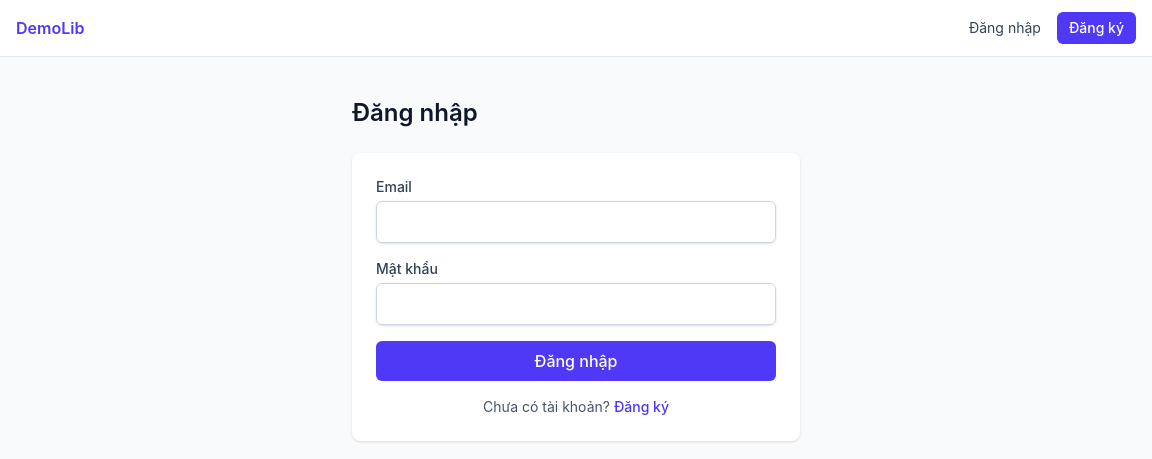
Scenario: 2.1.2 Đăng nhập — LoginPage › FU-02 BR-04: LIBRARIAN đăng nhập → /dashboard, lưu token
In the field labelled "Email": (576, 222) [376,201,776,243], type " A@B.com "
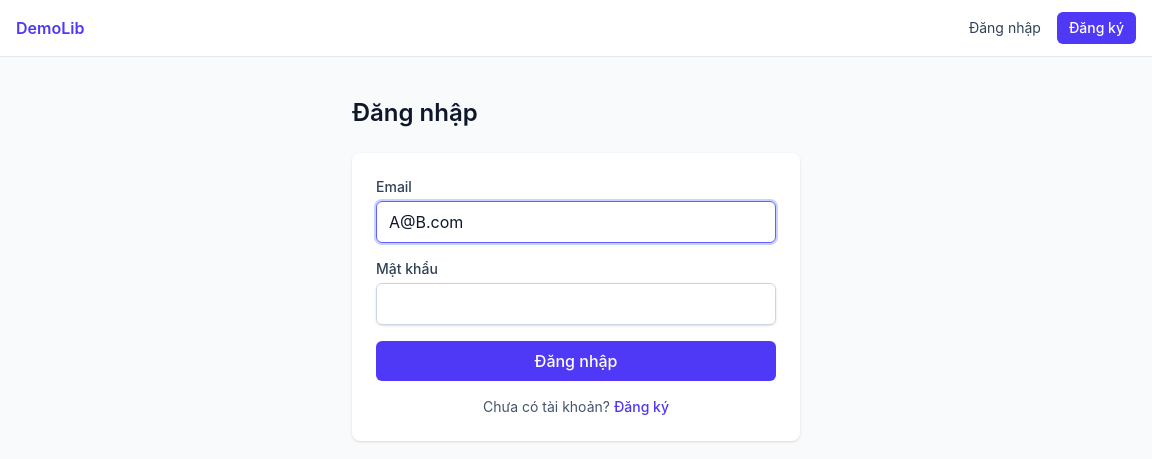
In the password field labelled "Mật khẩu": (576, 304) [376,283,776,325], type "12345678"
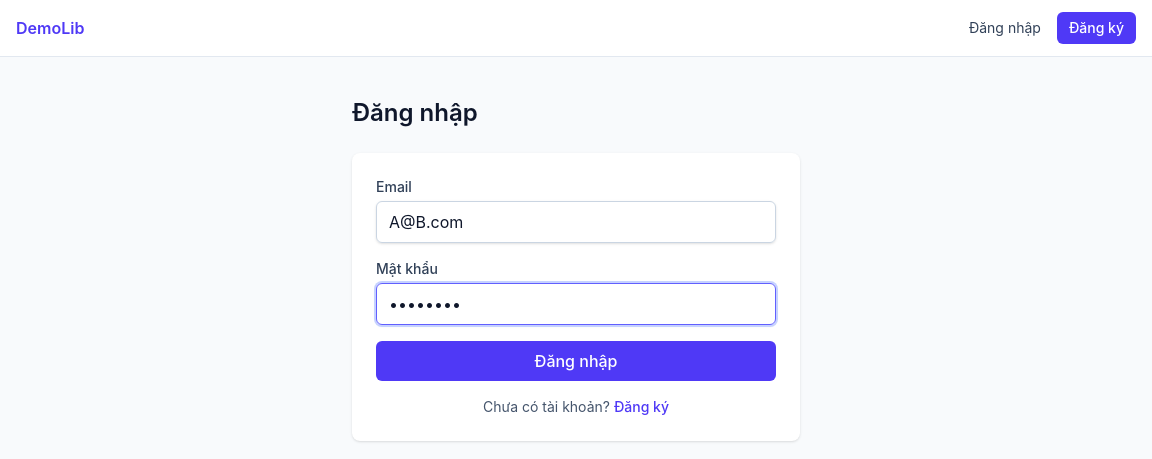
Click the button "Đăng nhập": (576, 361) [376,341,776,381]
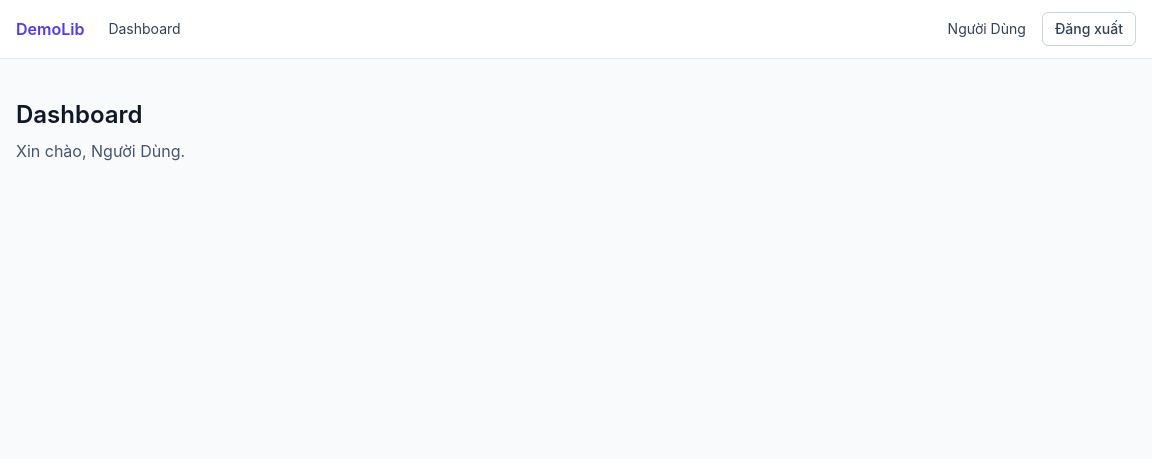
Result: the heading "Dashboard" is shown at [16,100,143,129]
Result: the text with test id "current-user" reads "Người Dùng" at [948,20,1026,37]
